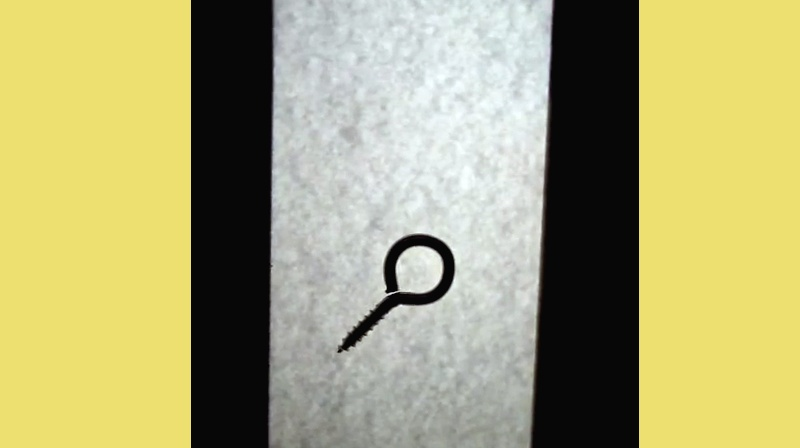O001: (332, 232, 458, 359)
